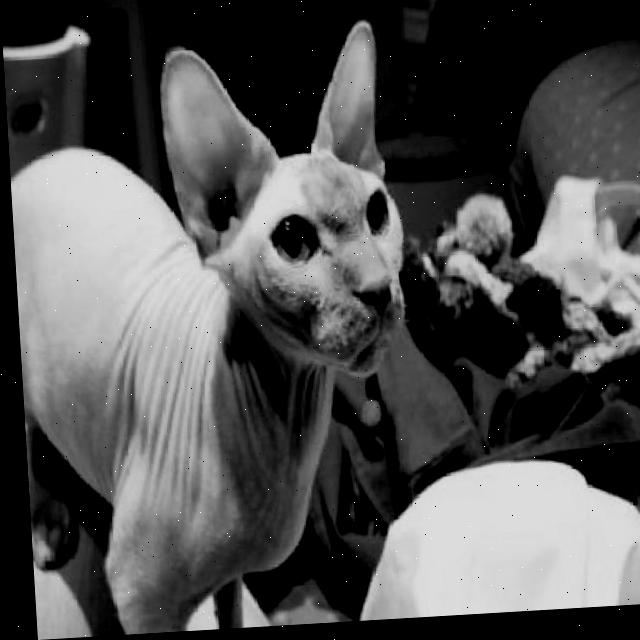Cat: (2, 15, 427, 638)
